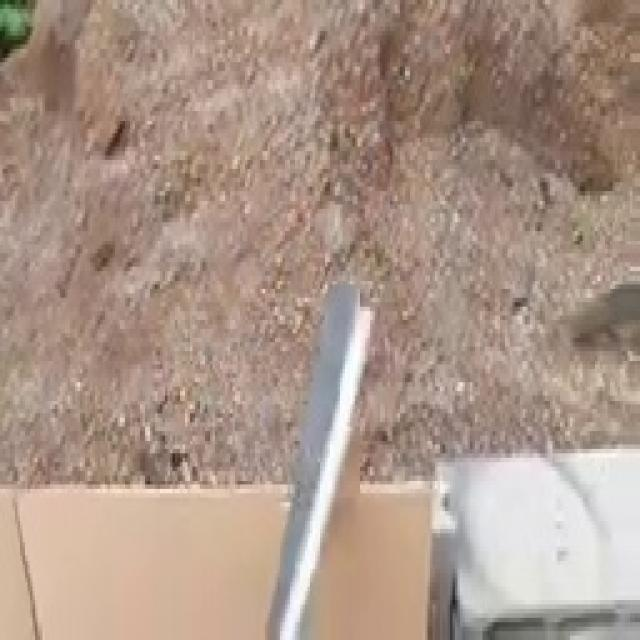eto: (266, 279, 374, 636)
